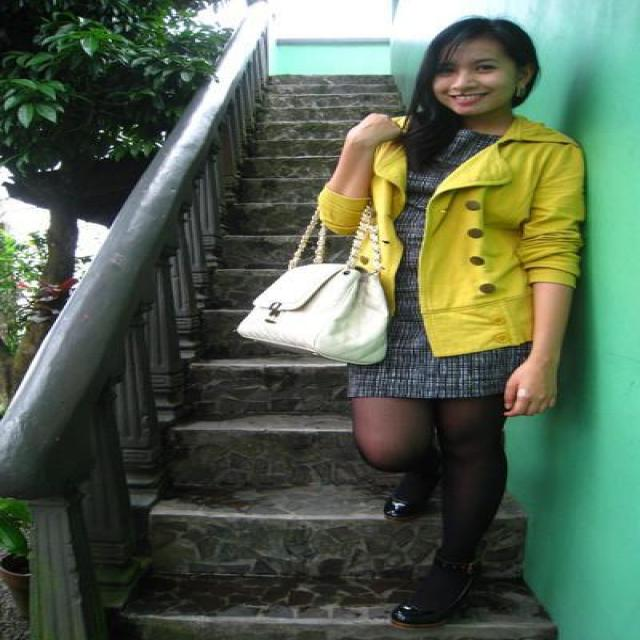bag: (211, 243, 387, 372)
dress: (326, 128, 532, 401)
jacket: (301, 107, 590, 355)
shoe: (380, 481, 470, 624)
